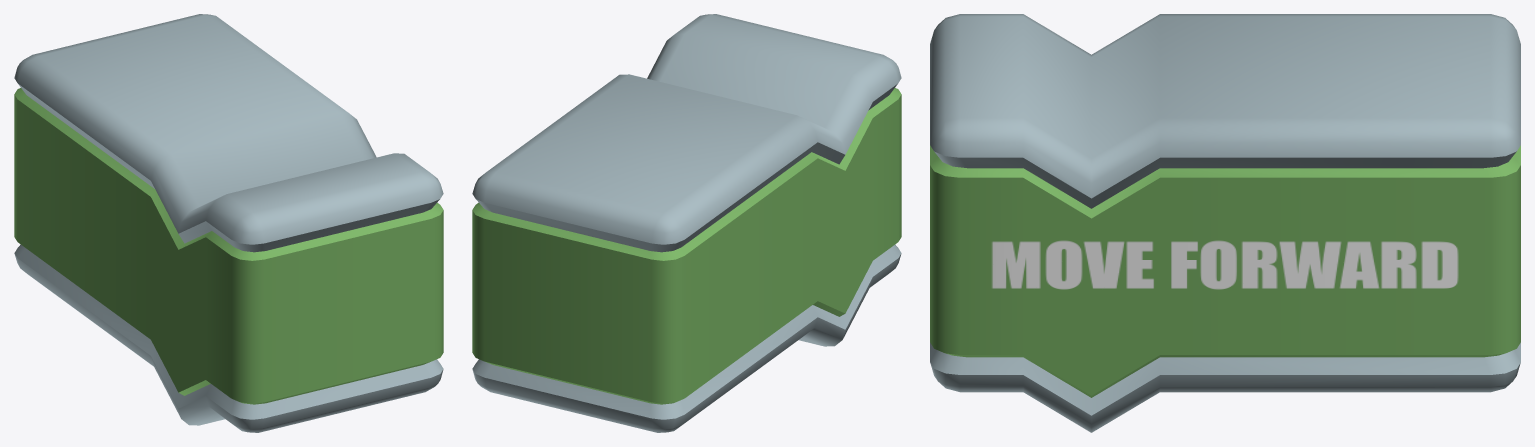
The model's file is Blocks-BlockProgramming.fbx.
3 views of the same model, side by side, from view 1: azimuth 30°, elevation 25°; view 2: azimuth 150°, elevation 25°; view 3: azimuth 270°, elevation 25° (orthographic). The views are drawn at different scales.
Visible parts, largest first — view 1: ActionBlock_Forward; view 2: ActionBlock_Forward; view 3: ActionBlock_Forward.
Part boxes in pixels (x1,y1,x2,y2): ActionBlock_Forward: [14, 14, 443, 432]; ActionBlock_Forward: [472, 14, 901, 432]; ActionBlock_Forward: [930, 14, 1520, 432].
Size of the model in its own units: 10 by 11.5 by 19.71.
